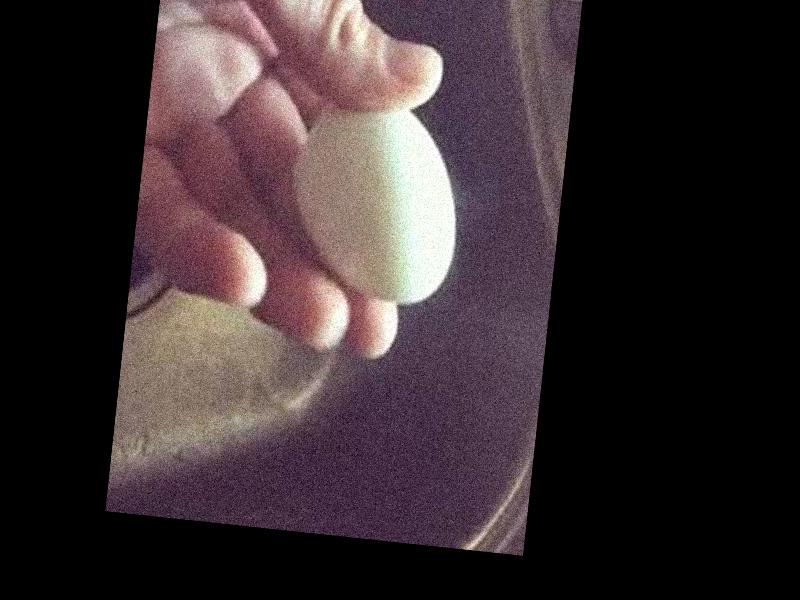Eggs: (286, 95, 468, 304)
